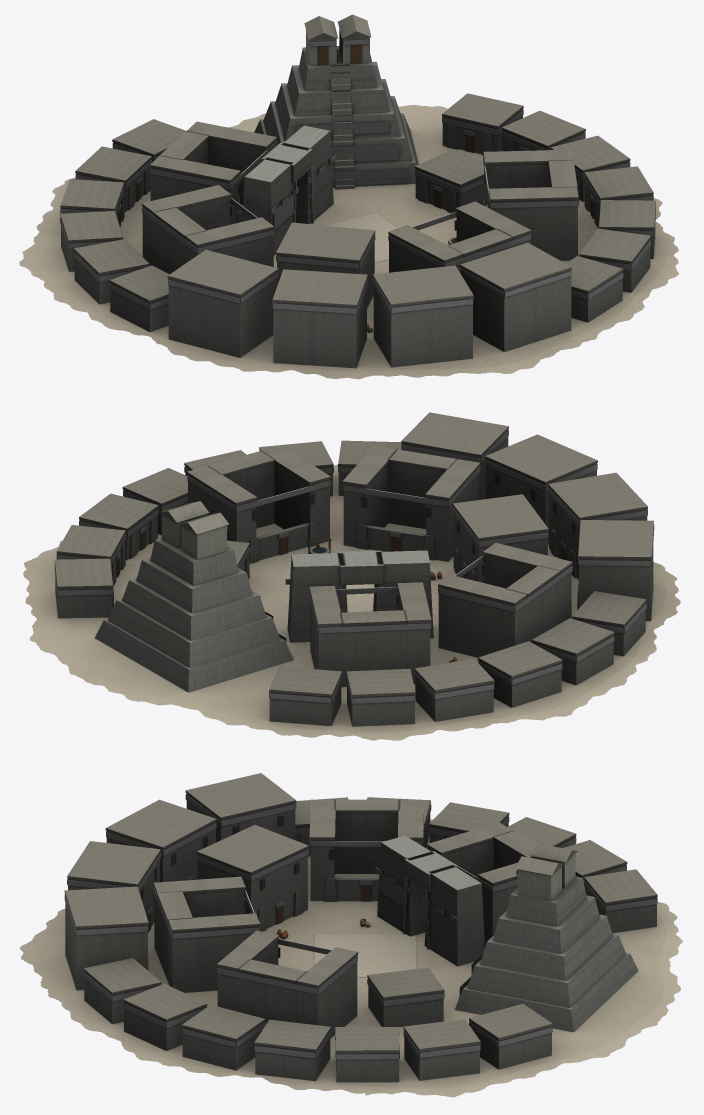
Rendered from kingdoms-town-big-b-americas-79b57e9d.glb.
The picture shows the model from 3 angles, top to bottom: view 1: azimuth 30°, elevation 25°; view 2: azimuth 150°, elevation 25°; view 3: azimuth 270°, elevation 25°; orthographic projection.
Parts seen in each view (by area): view 1: LOD0; view 2: LOD0; view 3: LOD0.
Part boxes in pixels (x1,y1,x2,y2): LOD0: (19, 14, 678, 379); LOD0: (23, 412, 680, 740); LOD0: (19, 773, 682, 1097).
Size of what is drawn, in the model's own units: 7.95 by 1.81 by 7.97.
3 materials, 3 textured.
